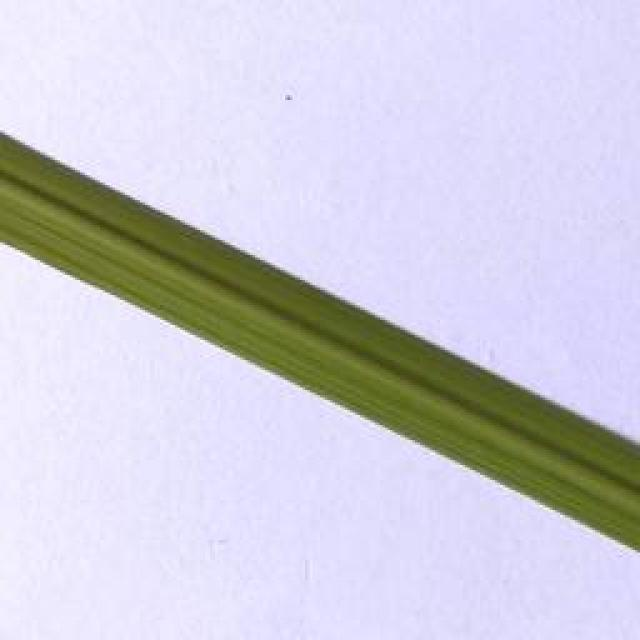Healthy-Plant: (0, 131, 640, 552)
